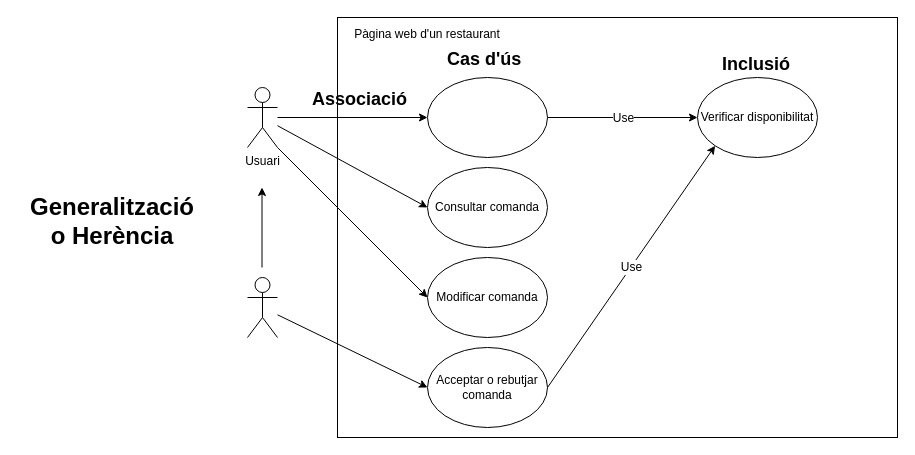
Some shapes in this 915 by 455 pixel diagram are drawn without their labels. The centre of each missing label's shape, as x and y in pixels:
Administrador: pixel 262 307
Crear comanda: pixel 487 117
